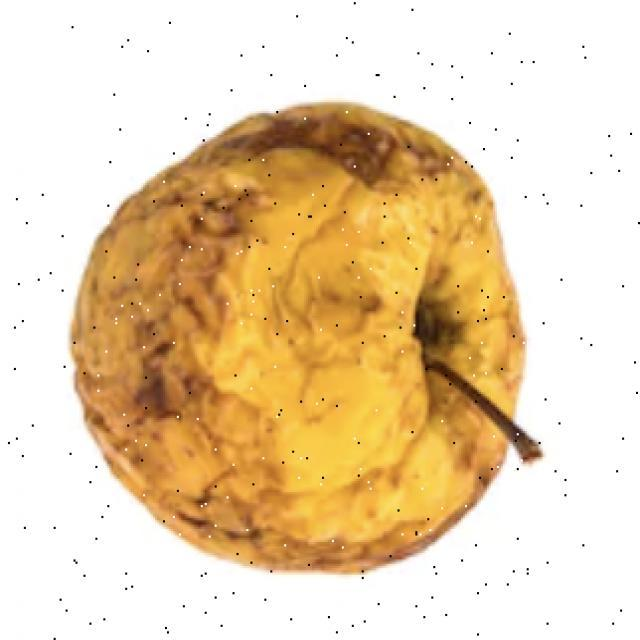Rotten: (68, 107, 525, 575)
